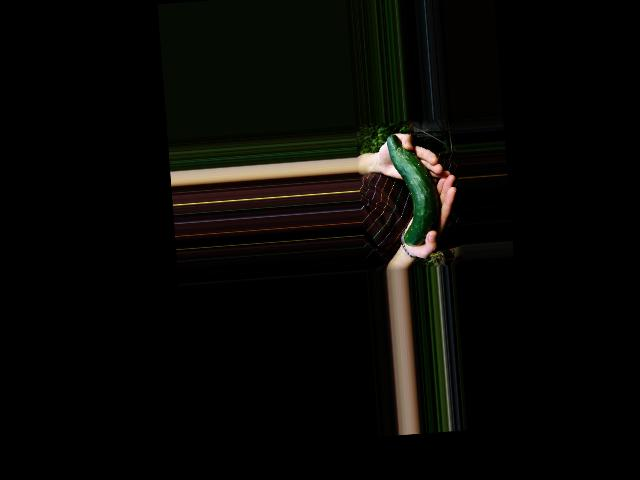cucumber: (386, 132, 441, 248)
